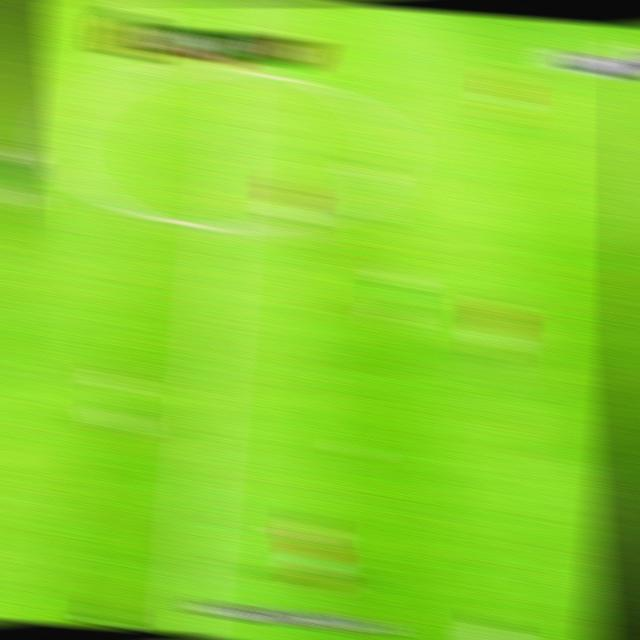halfcircle_bottom: (197, 208, 241, 245)
halfcircle_top: (210, 55, 256, 84)
